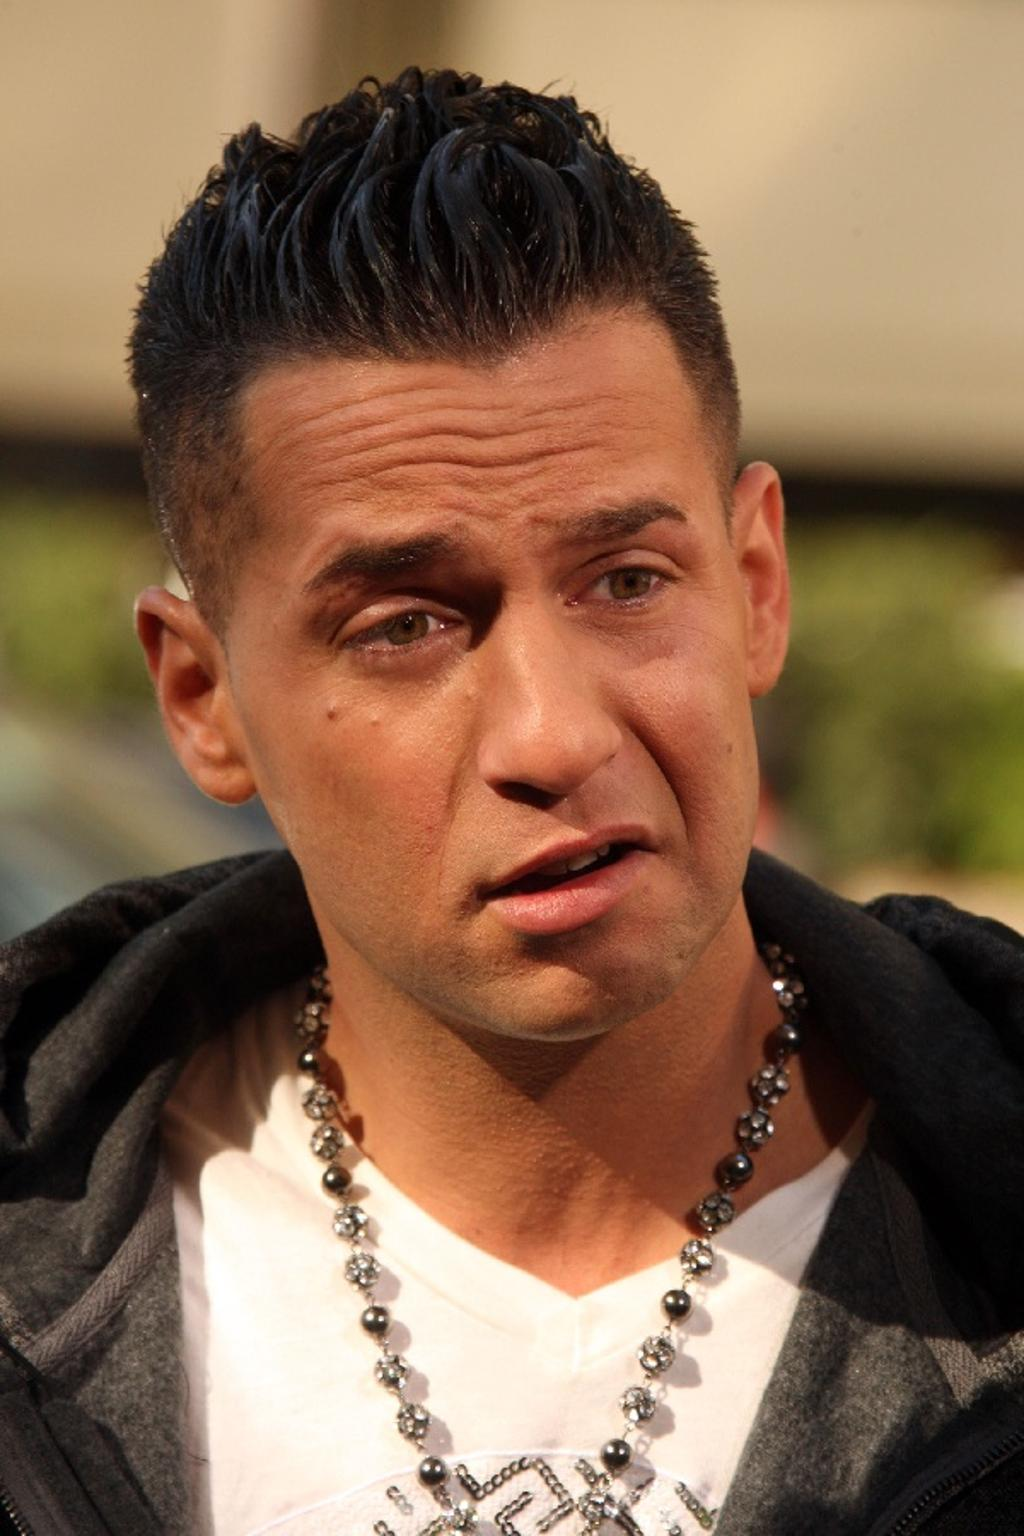face: (228, 312, 754, 1039)
